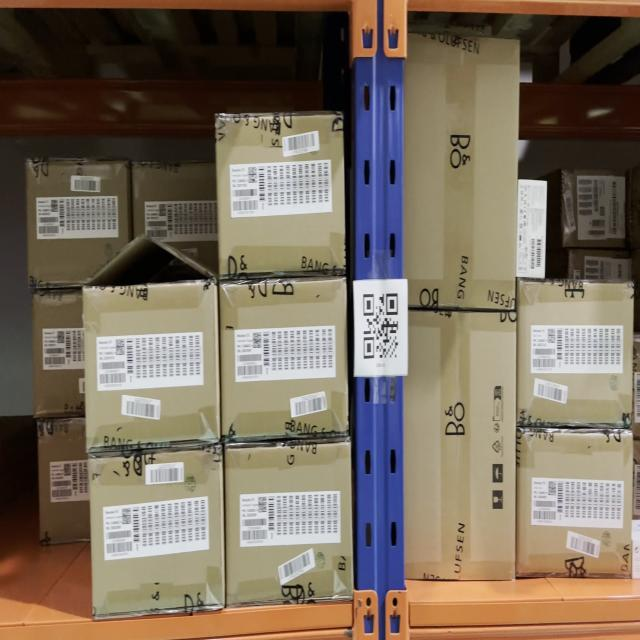box: (408, 38, 514, 307), (409, 312, 515, 578), (92, 454, 221, 610), (88, 286, 219, 439), (220, 114, 342, 278), (223, 284, 348, 435), (227, 448, 351, 598), (517, 434, 632, 578), (520, 282, 630, 424), (519, 180, 545, 276)
